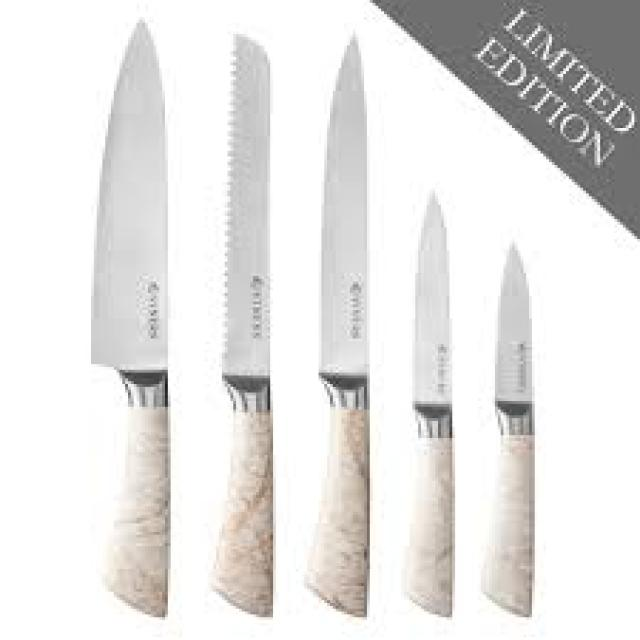knives: (73, 8, 190, 626), (195, 15, 298, 623)
